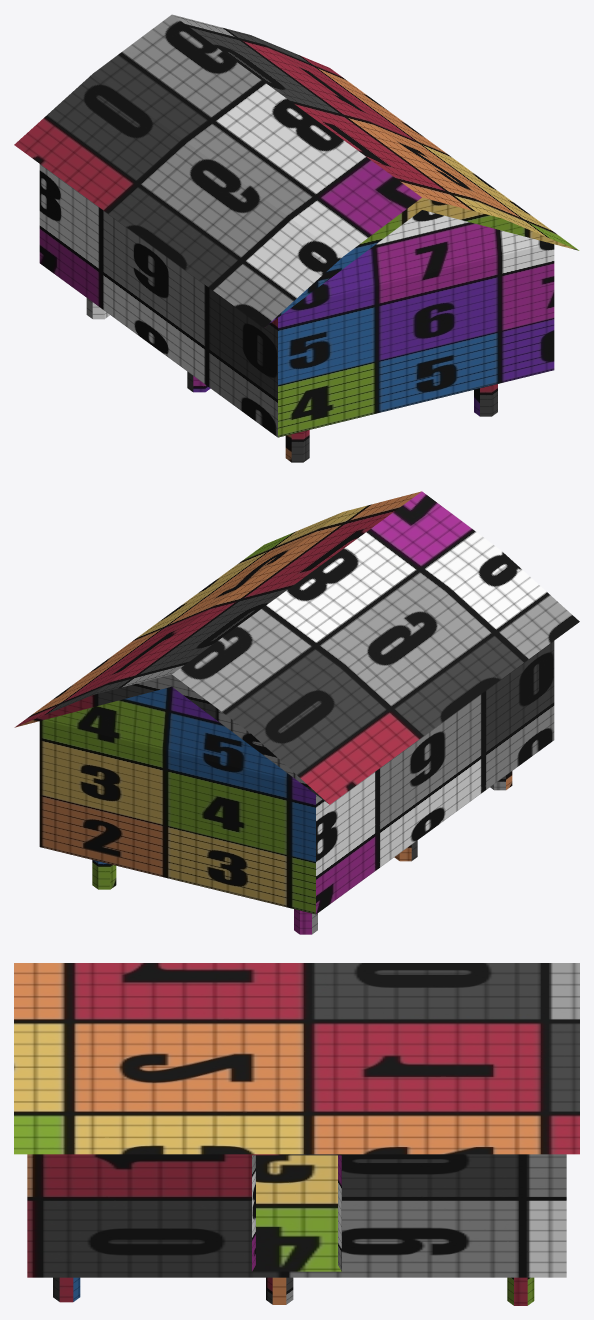
Rendered from shelter_model.dae.
3 renders of one model, top to bottom at view 1: azimuth 30°, elevation 25°; view 2: azimuth 150°, elevation 25°; view 3: azimuth 270°, elevation 25°, orthographic. The views are drawn at different scales.
Parts seen in each view (by area): view 1: Cube; view 2: Cube; view 3: Cube.
Boxes of the visible parts, bbox=[...] form: Cube: bbox=[14, 14, 579, 462]; Cube: bbox=[14, 491, 579, 934]; Cube: bbox=[14, 963, 579, 1305].
Bounding box in the file's own units: 5.18 × 7.11 × 3.97.
Materials: 1 (1 with a texture image).
